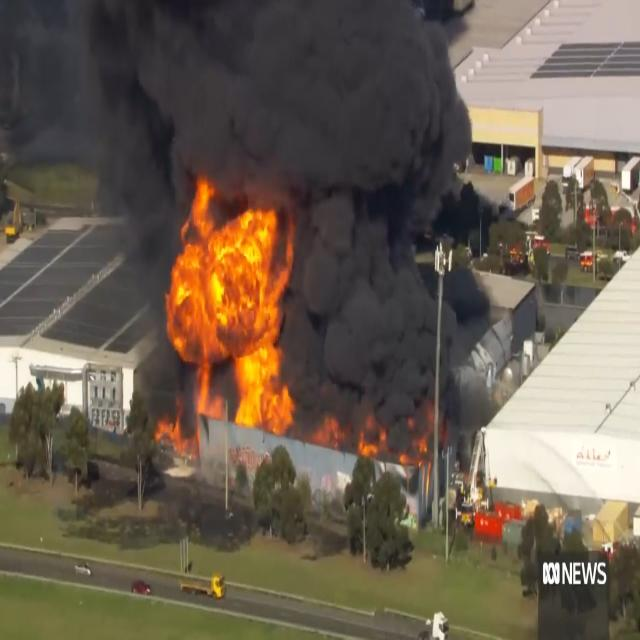fire: (160, 168, 304, 433), (397, 401, 431, 467), (321, 418, 376, 455)
